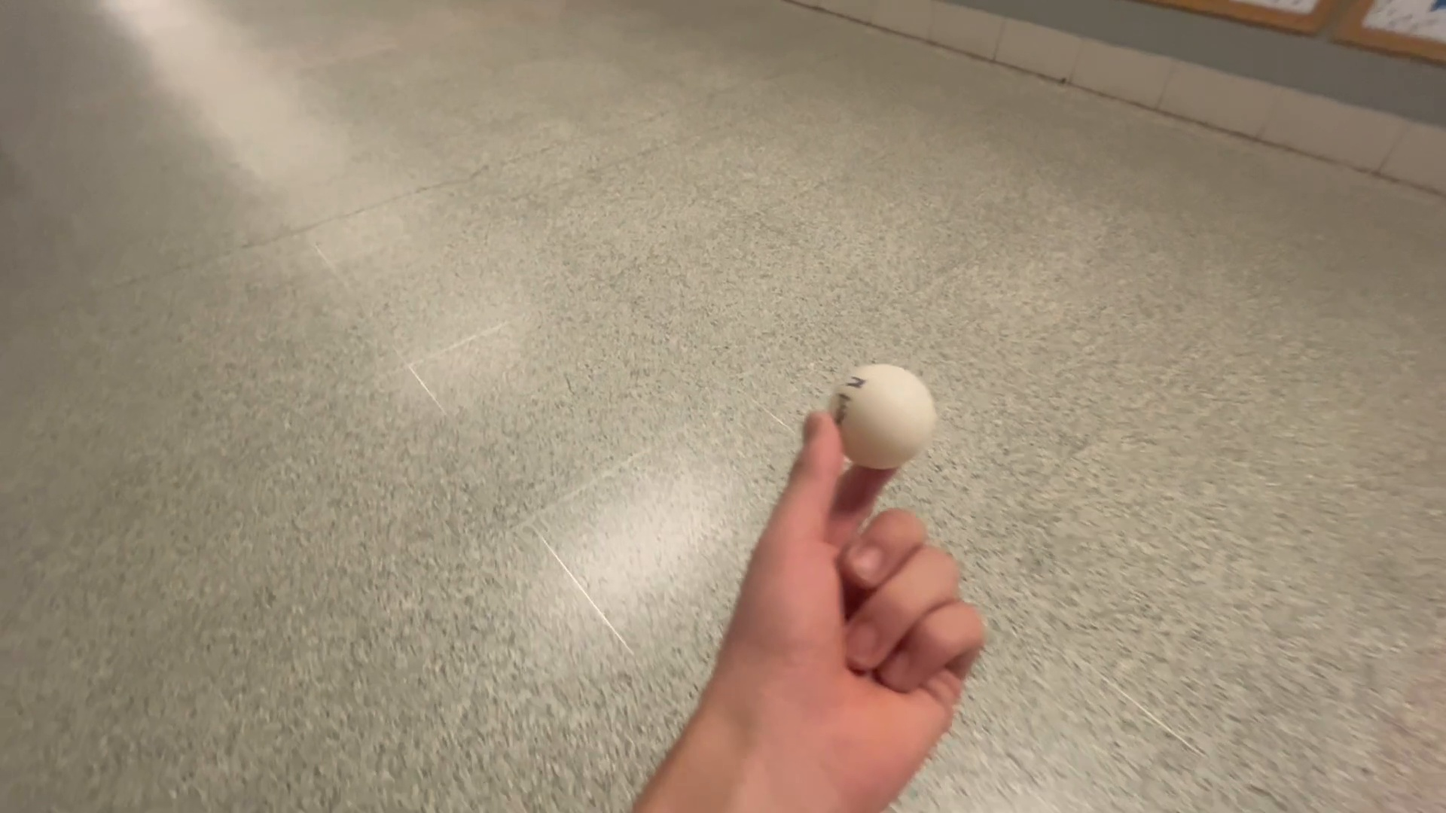Ball: (819, 350, 944, 472)
